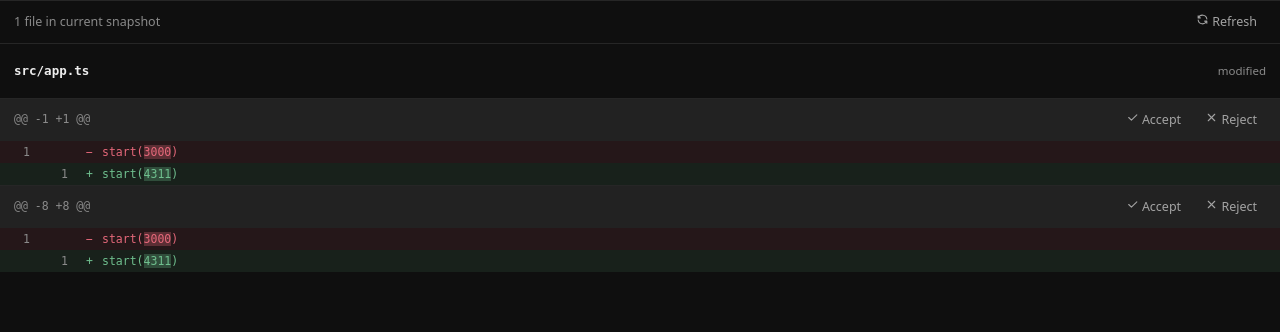
Test: inline diff review › recovers a stale snapshot and keeps mixed hunk decisions clear
Click the button with aria-label "Accept @@ -1 +1 @@ in src/app.ts" at coordinates (1153, 120), box [1117,106,1190,134]
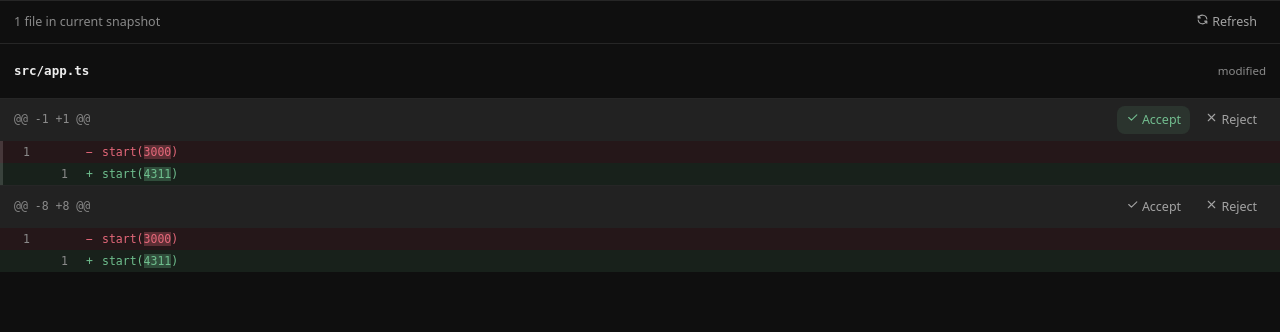
Click the button with aria-label "Reject @@ -8 +8 @@ in src/app.ts" at coordinates (1231, 207), box [1196,193,1266,221]
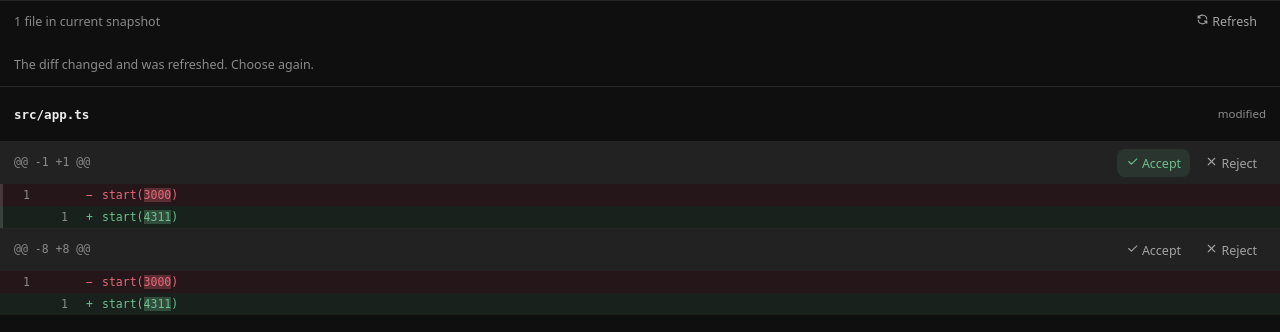
Result: the text "The diff changed and was refreshed. Choose again." is shown at [14,56,314,73]
Click the button with aria-label "Reject @@ -8 +8 @@ in src/app.ts" at coordinates (1231, 250), box [1196,236,1266,264]
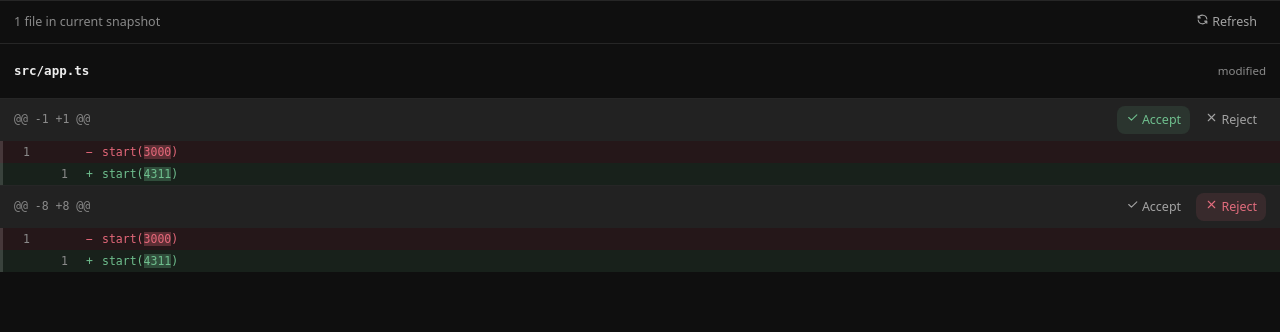
Result: the button with aria-label "Accept @@ -1 +1 @@ in src/app.ts" is disabled at [1117,106,1190,134]
Result: the button with aria-label "Reject @@ -8 +8 @@ in src/app.ts" is disabled at [1196,193,1266,221]
